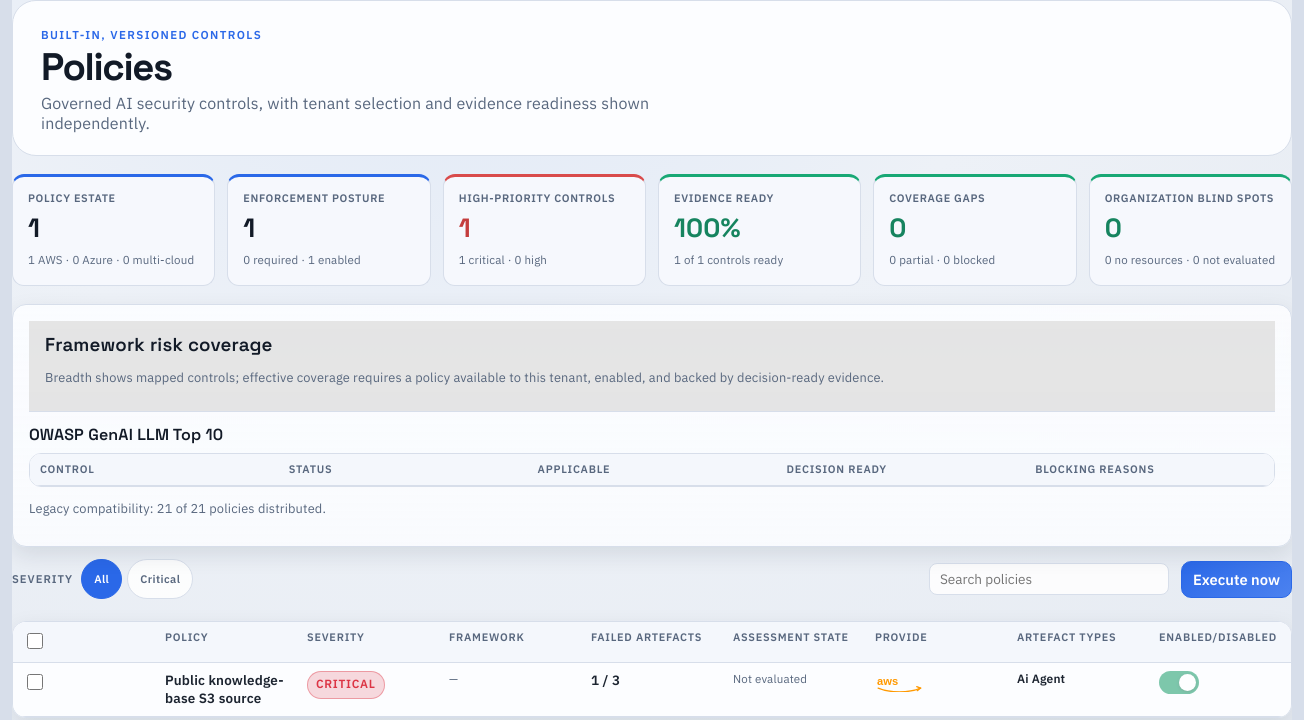
Test: AiPoliciesPage › navigates to the policy detail page when a row is clicked
Click the text "Public knowledge-base S3 source".
click(652, 689)  # box [13,662,1291,717]
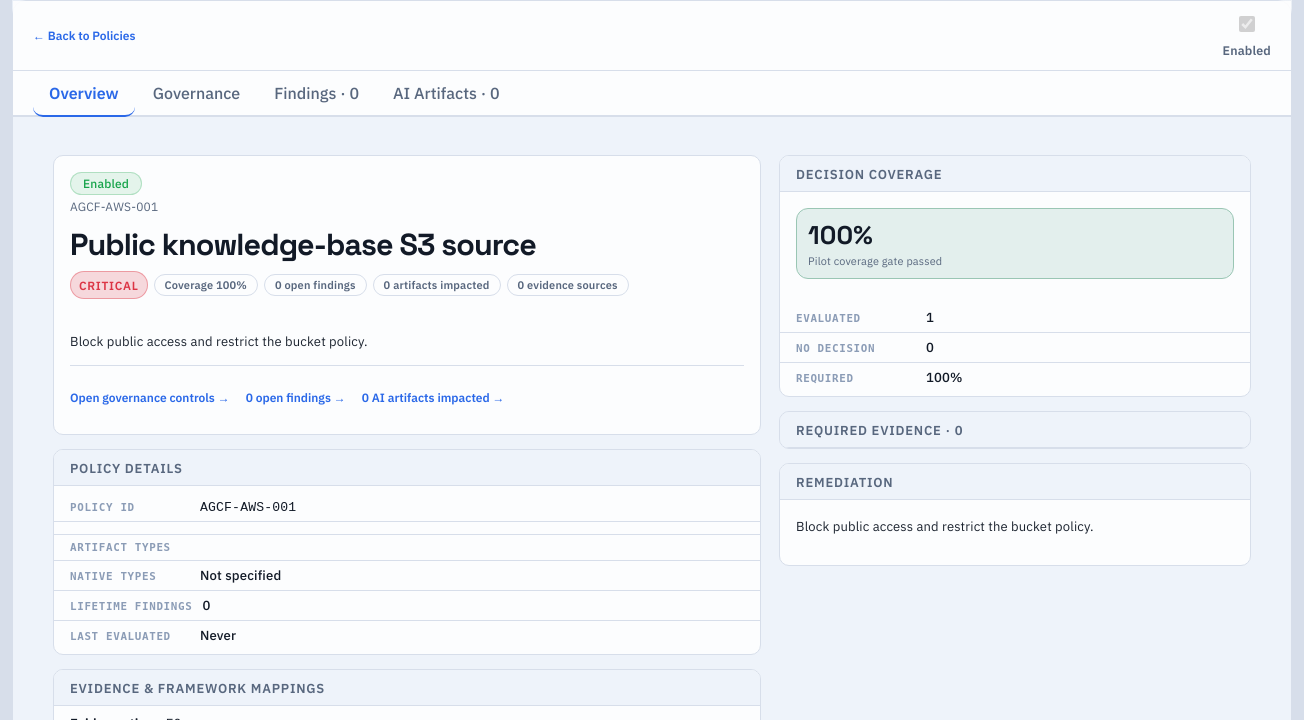
Expected: the heading "Public knowledge-base S3 source" is shown, [70,225,536,264]
Now the text "Block public access and restrict the bucket policy." below "CRITICAL" is shown, box [70,333,368,350]
